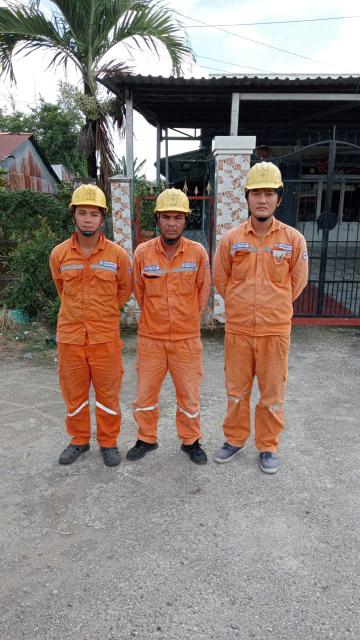helmet: (241, 151, 289, 209), (60, 178, 112, 220), (150, 181, 207, 209)
shoes: (126, 425, 160, 462), (93, 438, 126, 472), (210, 437, 245, 466), (176, 438, 207, 467), (51, 438, 83, 462), (256, 449, 278, 476)
